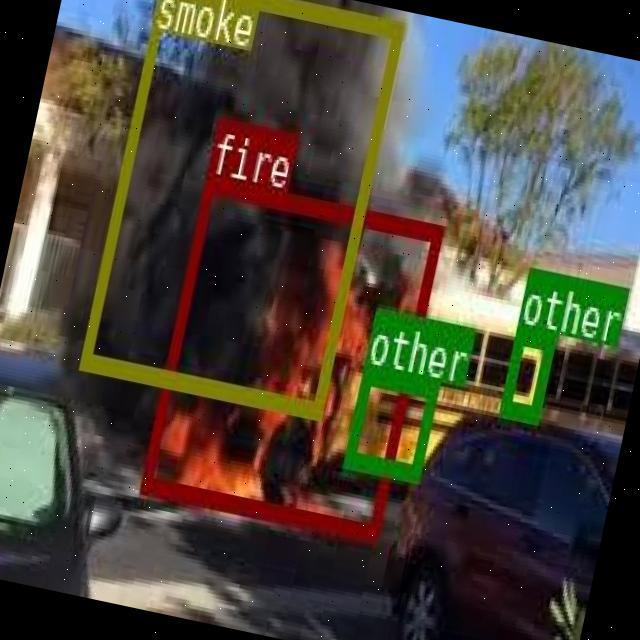fire: (139, 172, 442, 539)
smoke: (78, 0, 402, 415)
